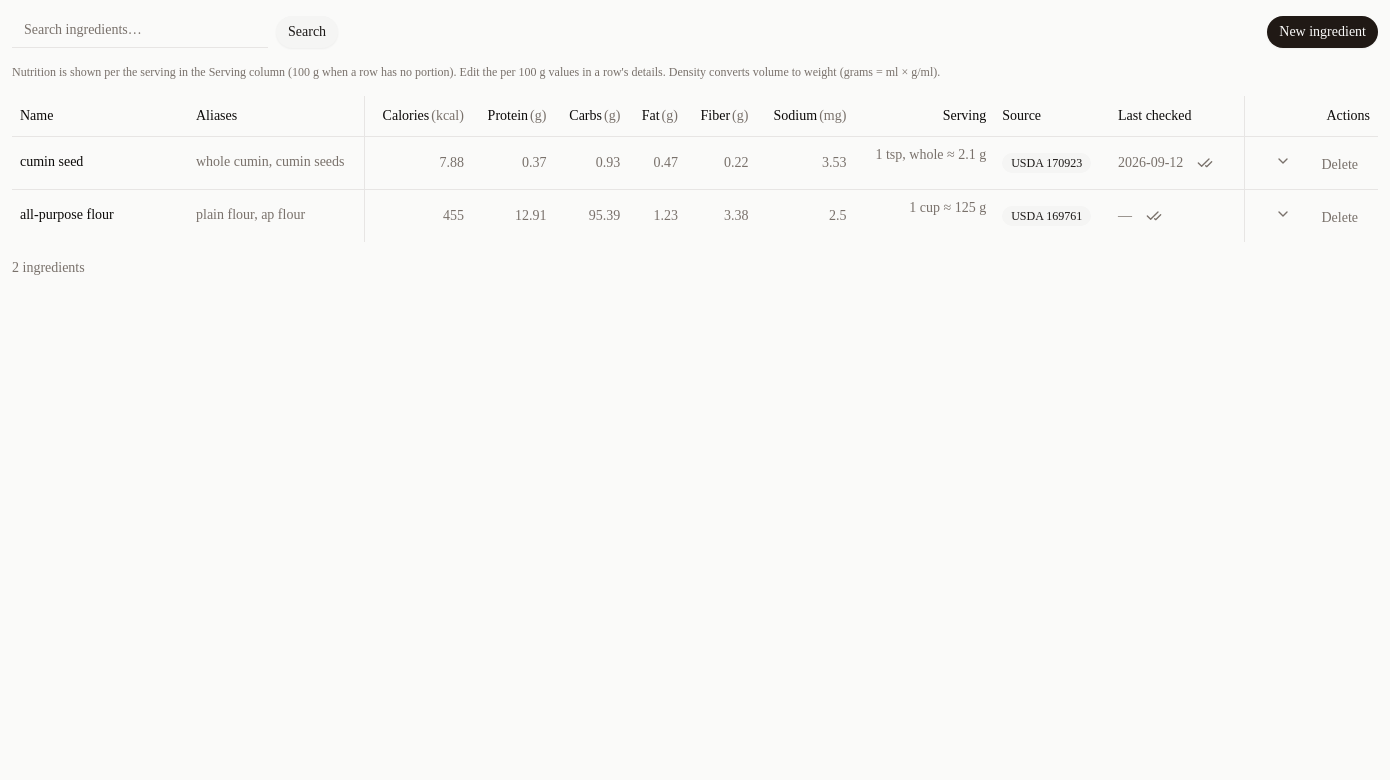
Test: IngredientsTable › surfaces the duplicate-name error from a failed create
Click the button "New ingredient" at coordinates (1323, 32), box [1267, 16, 1378, 48]
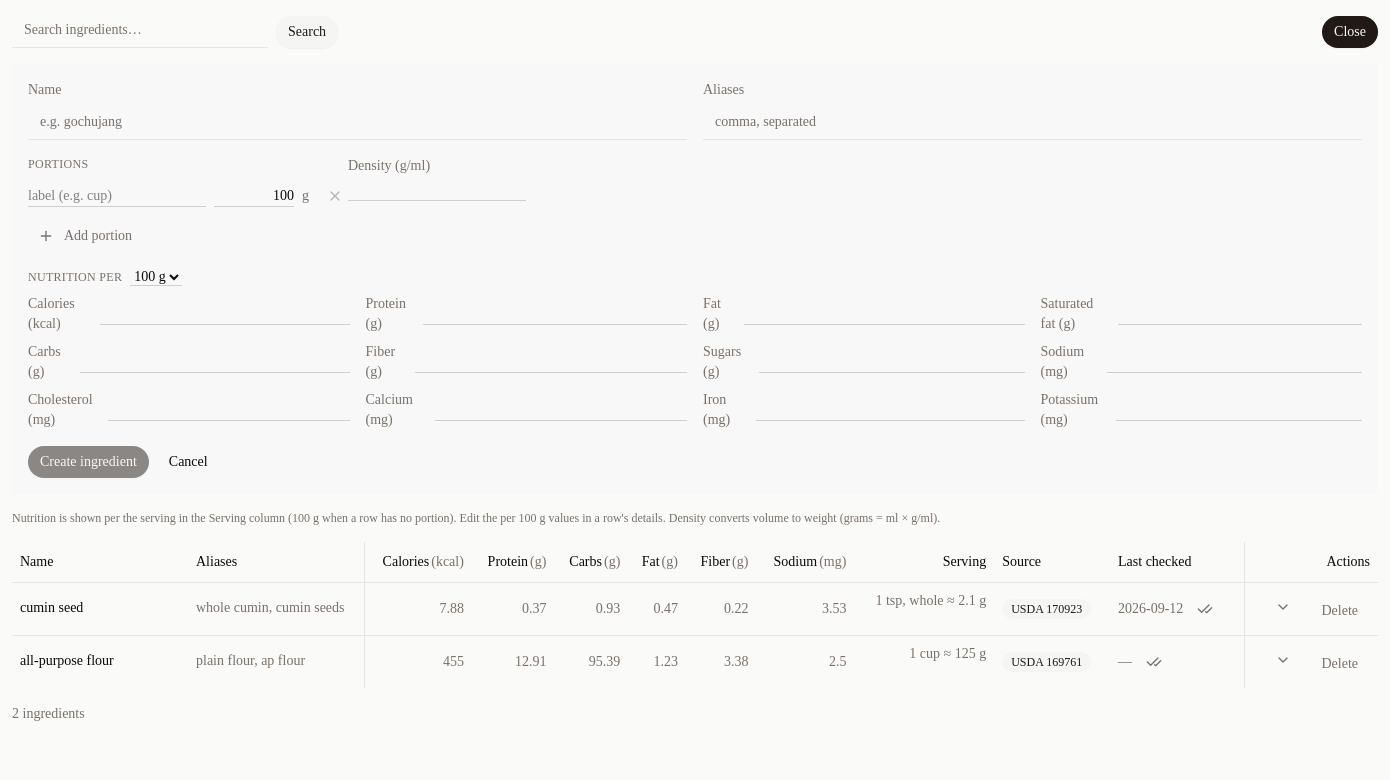
Type "cumin seed" into the field named "New ingredient name" at coordinates (358, 122), box [28, 104, 687, 140]
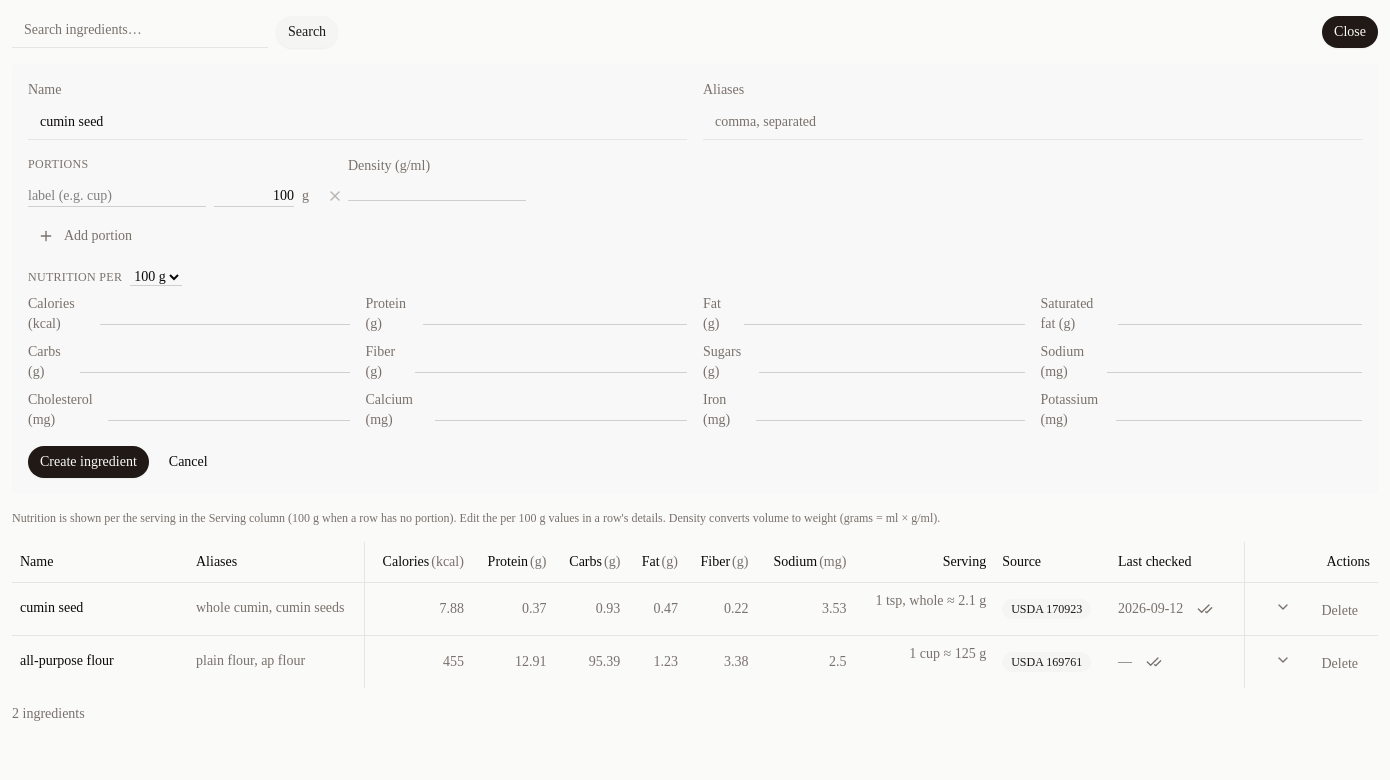
Click the button "Create ingredient" at coordinates (88, 462), box [28, 446, 149, 478]
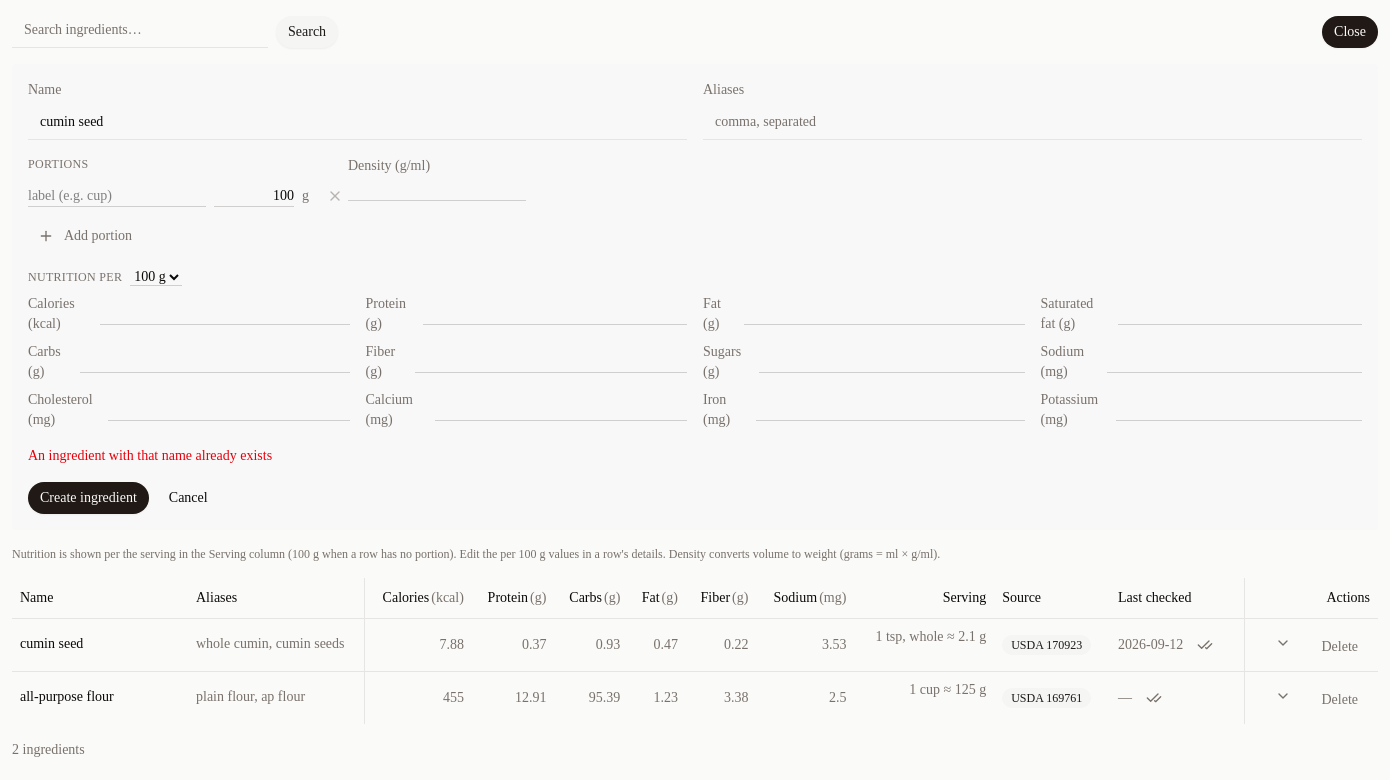
Check: the text "An ingredient with that name already exists" is shown, box [28, 448, 272, 463]
